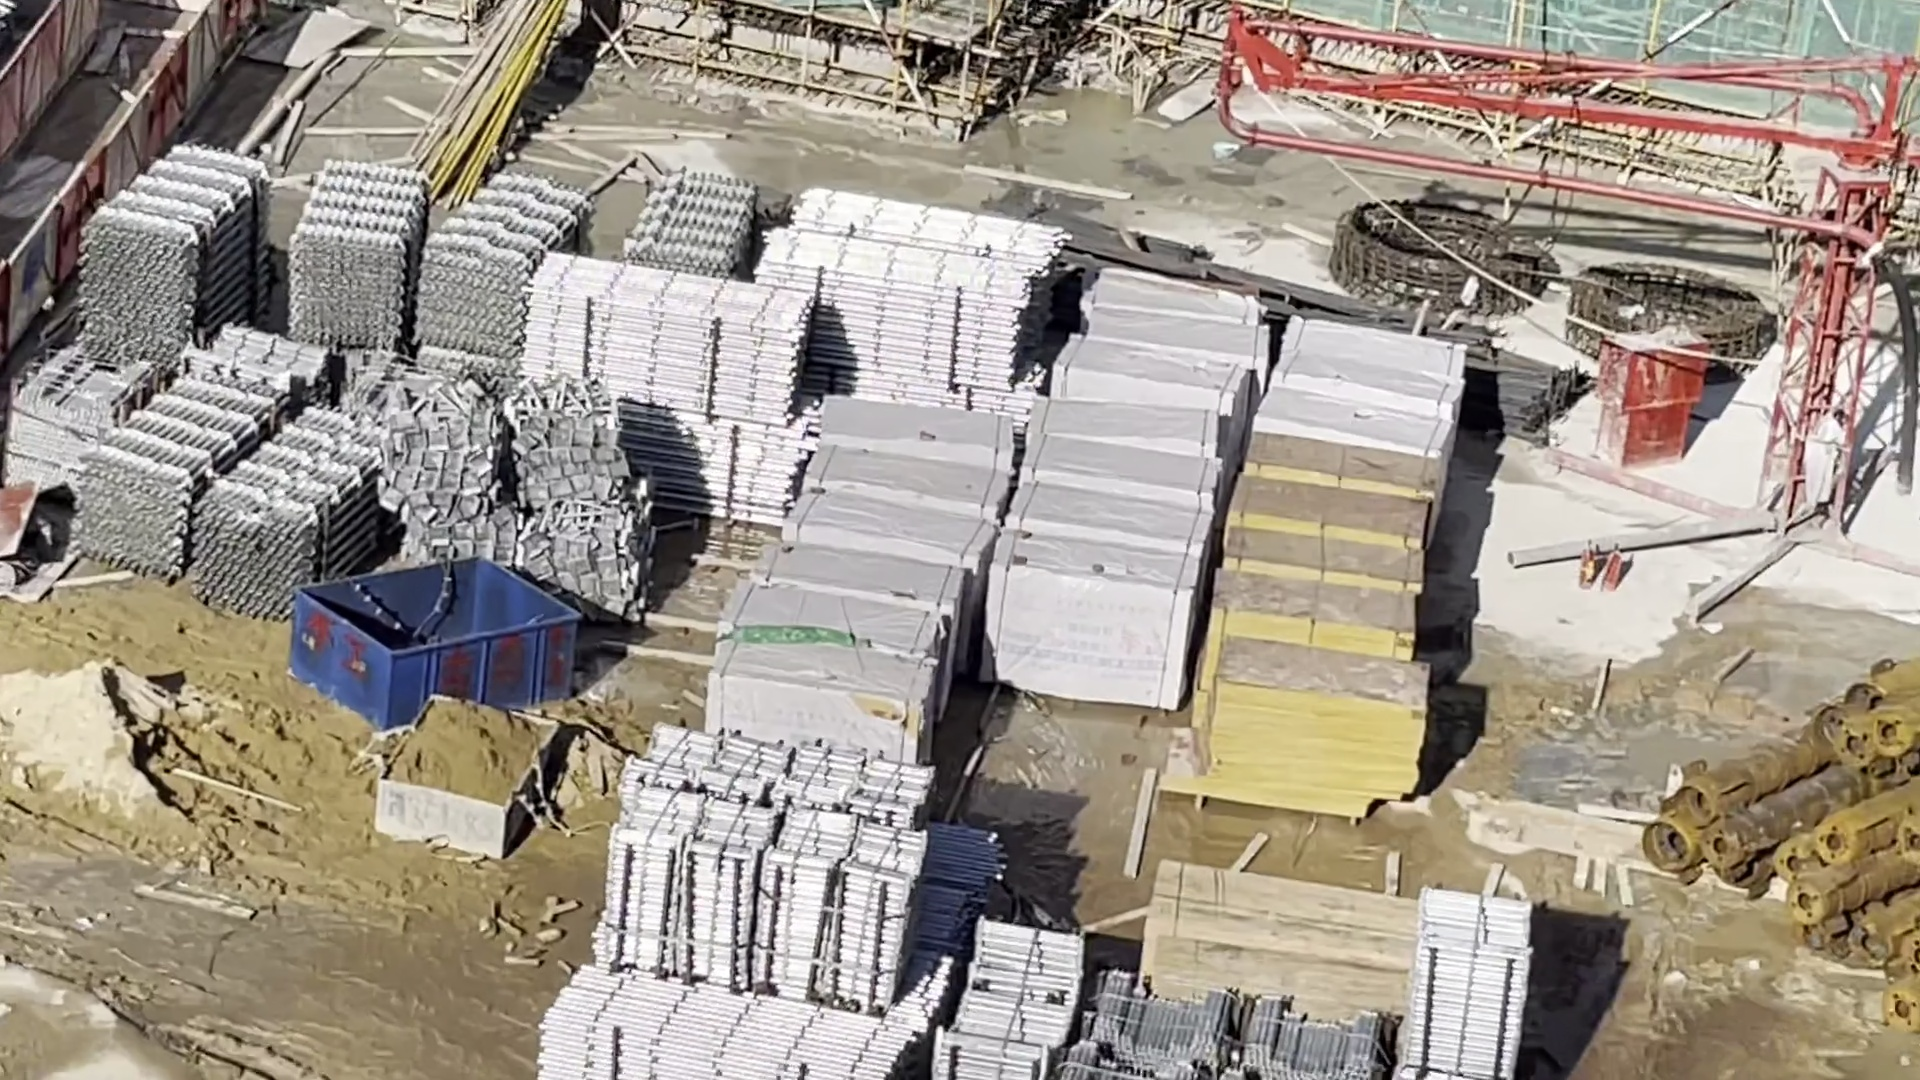board: (1211, 435, 1418, 818), (1146, 866, 1411, 1030)
fence: (7, 1, 222, 339)
hopper: (294, 562, 578, 727), (378, 695, 556, 858)
rebar: (1124, 219, 1575, 426)
scaffold: (601, 735, 919, 1000), (527, 251, 794, 524), (82, 396, 392, 615), (293, 164, 589, 367), (761, 196, 1058, 392), (83, 153, 266, 369), (538, 981, 916, 1080), (1083, 976, 1364, 1080), (945, 938, 1084, 1080), (1419, 889, 1522, 1080), (636, 173, 764, 280)
